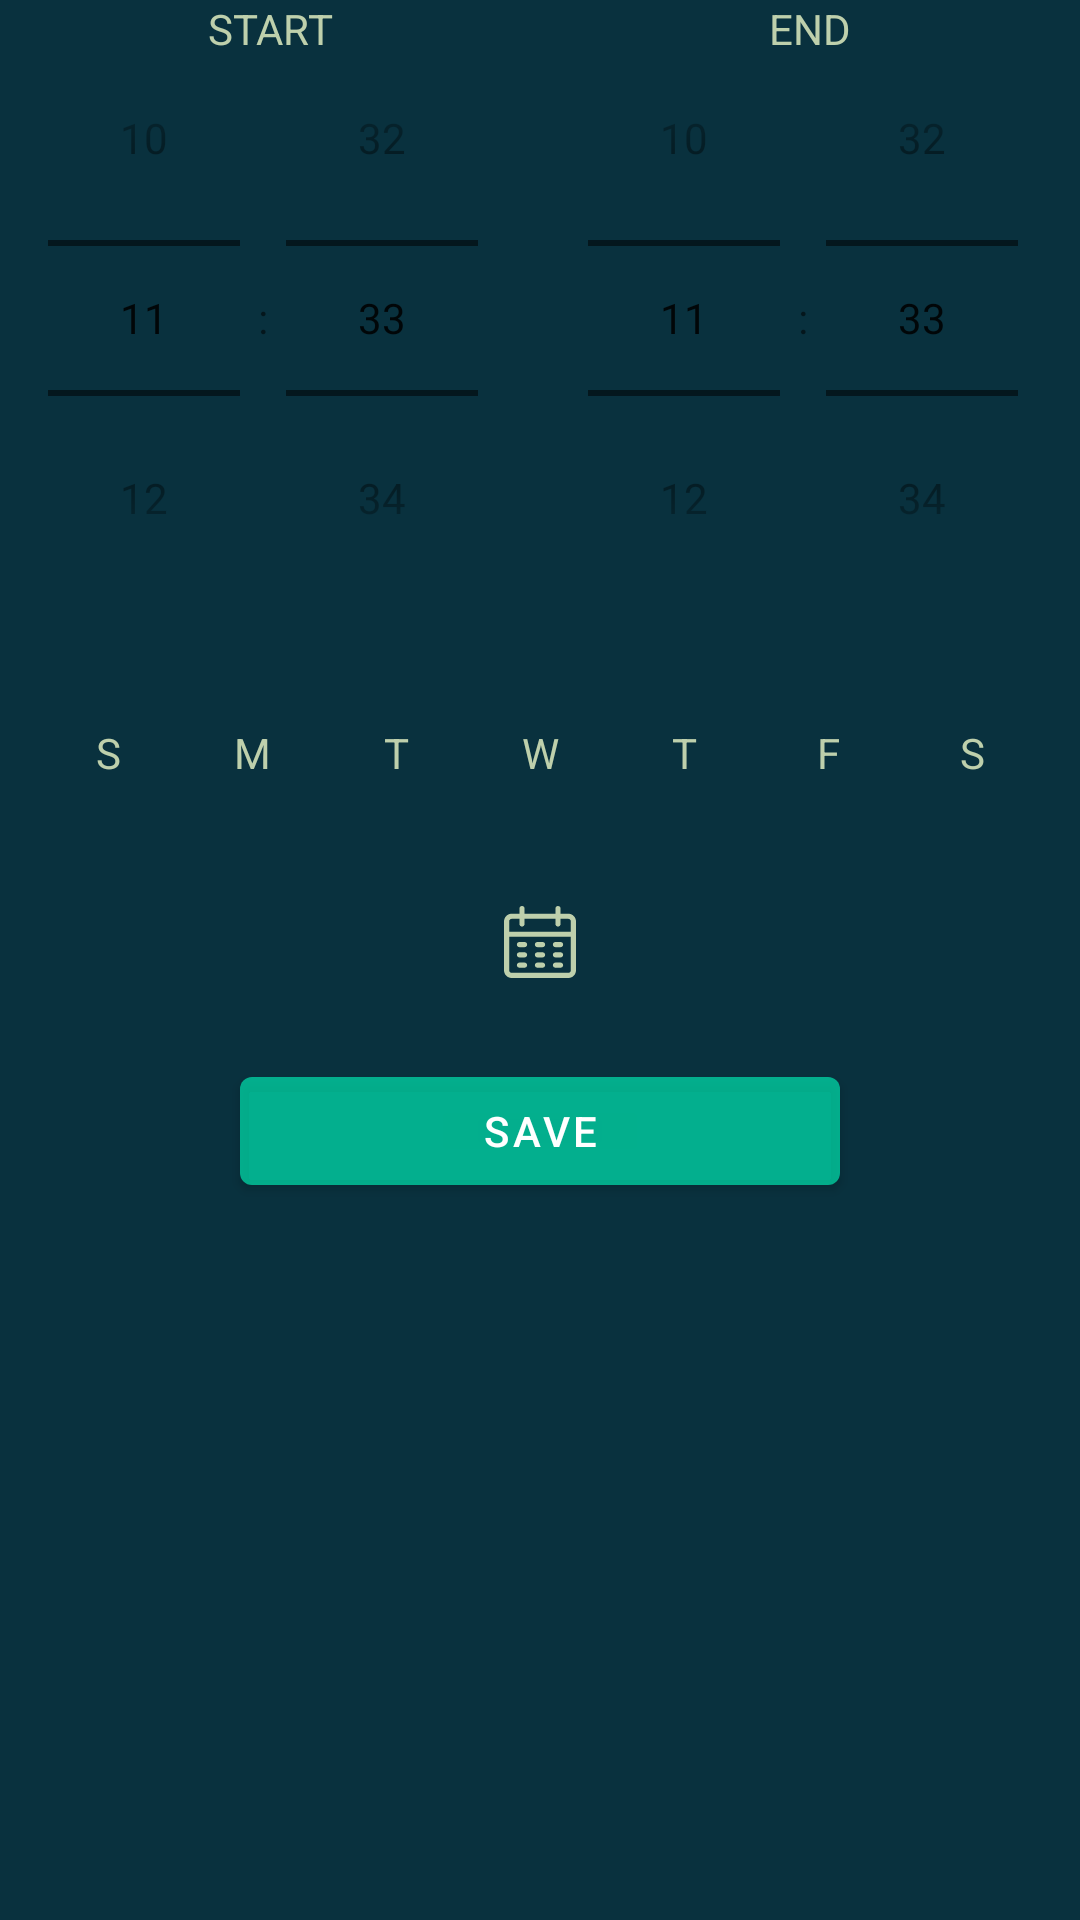

Icons on this 1080px×1920px Android screen, each with its box as bbox(x1, y1, x2, y2):
calender: bbox(504, 906, 576, 978)
